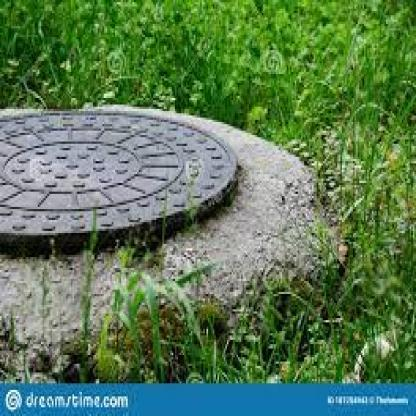closed manhole-not overflowing-: (0, 104, 239, 245)
